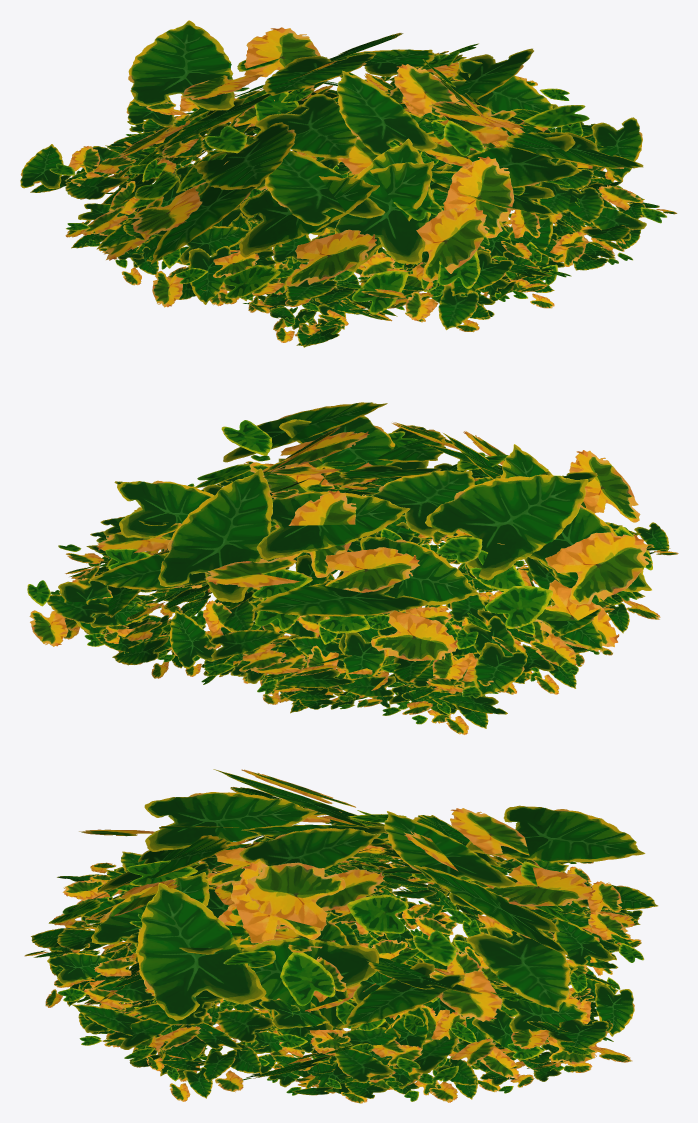
Rendered from BackGround_v2.fbx.
3 views of the same model, one above another, from view 1: azimuth 30°, elevation 25°; view 2: azimuth 150°, elevation 25°; view 3: azimuth 270°, elevation 25° (orthographic). The views are drawn at different scales.
Parts seen in each view (by area): view 1: Leave_LOD_4_Floor, Leave_LOD_3_Floor, Leave_LOD_1_Floor, Leave_LOD_0_Floor; view 2: Leave_LOD_4_Floor, Leave_LOD_3_Floor, Leave_LOD_0_Floor, Leave_LOD_1_Floor; view 3: Leave_LOD_4_Floor, Leave_LOD_3_Floor, Leave_LOD_1_Floor, Leave_LOD_0_Floor.
Boxes of the visible parts, box(x1,y1,x2,y2) form: Leave_LOD_4_Floor: box(104, 20, 643, 314); Leave_LOD_3_Floor: box(20, 43, 666, 330); Leave_LOD_1_Floor: box(80, 77, 677, 345); Leave_LOD_0_Floor: box(30, 76, 641, 347); Leave_LOD_4_Floor: box(90, 402, 652, 661); Leave_LOD_3_Floor: box(27, 455, 660, 714); Leave_LOD_0_Floor: box(50, 485, 678, 734); Leave_LOD_1_Floor: box(59, 480, 669, 715); Leave_LOD_4_Floor: box(48, 769, 645, 1028); Leave_LOD_3_Floor: box(31, 817, 658, 1093); Leave_LOD_1_Floor: box(24, 843, 642, 1101); Leave_LOD_0_Floor: box(48, 849, 641, 1103).
Bounding box in the file's own units: 8956 × 2406 × 9047.
